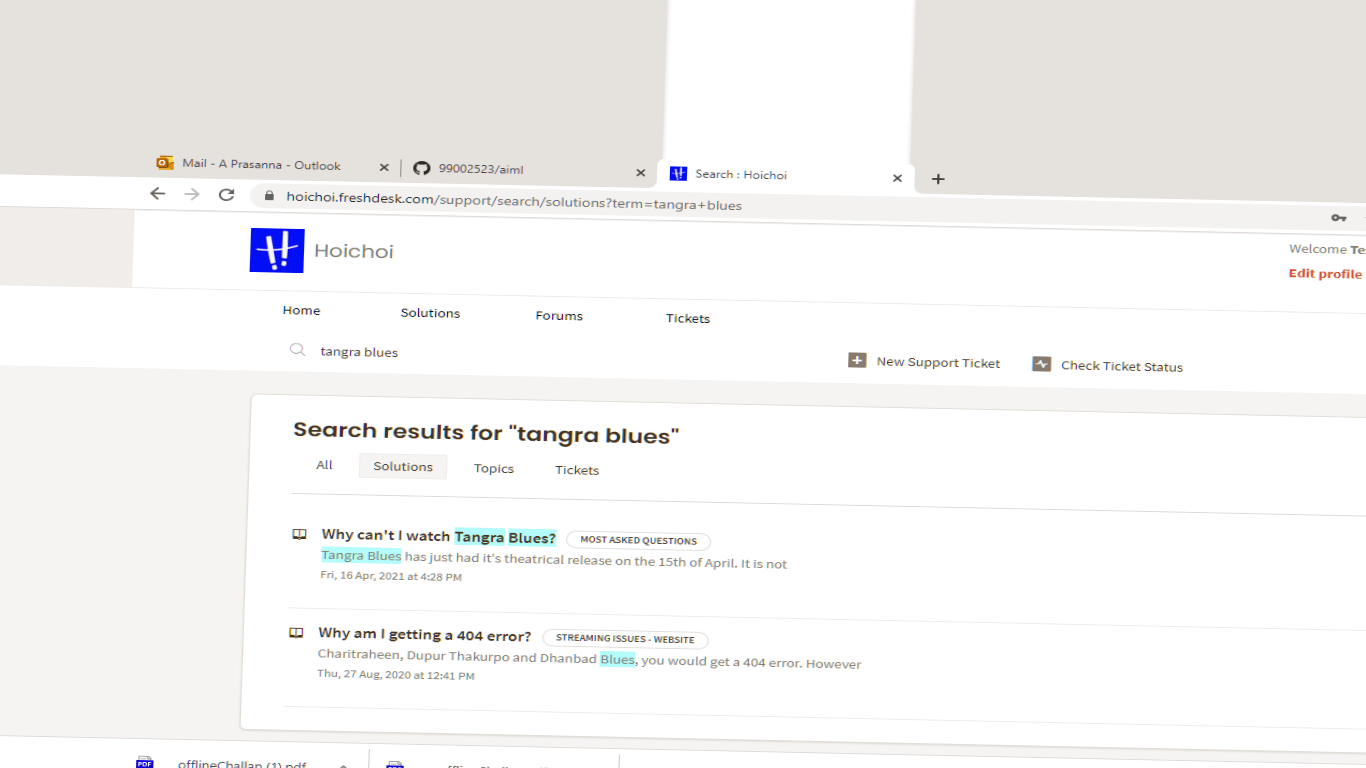profileicon: (1279, 256, 1366, 280)
resultsfound: (264, 390, 697, 453)
searchicon: (282, 333, 311, 362)
searchtextbox: (281, 333, 819, 385)
